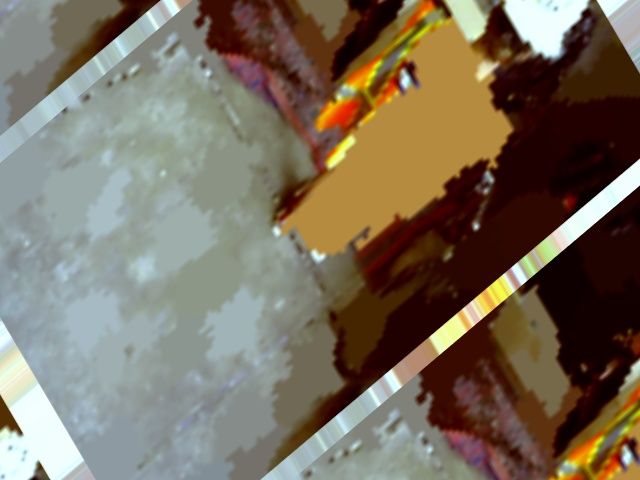one: (534, 0, 585, 16)
